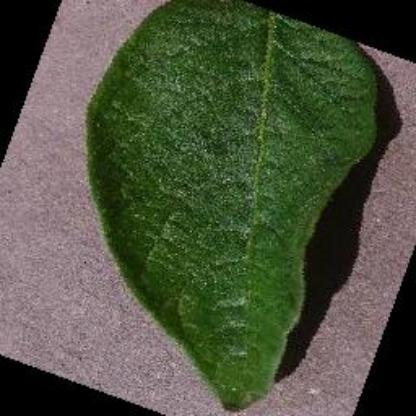Healthy-plant: (26, 0, 416, 416)
